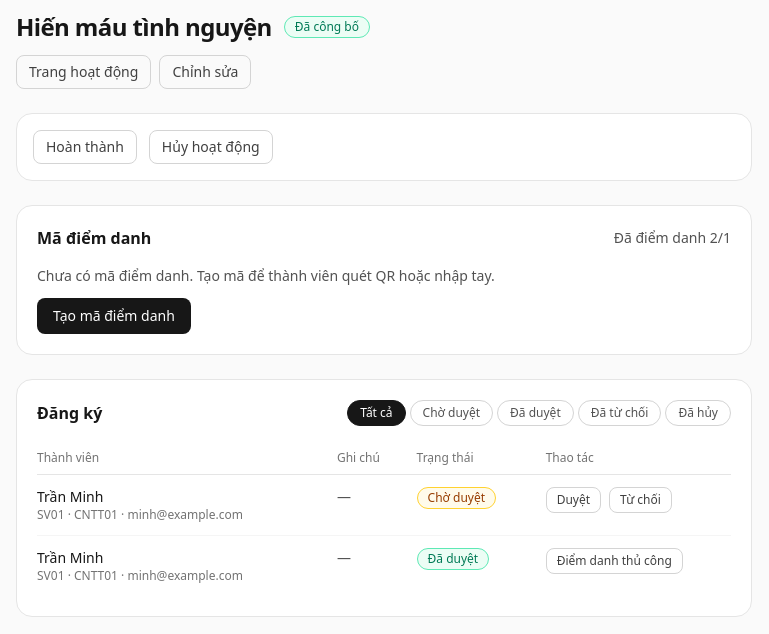
ManageView — lifecycle › published completes after the inline confirm and shows records
What coordinates should you click on to do the following:
click the button "Hoàn thành"
I would click on:
 (85, 147)
Its box is [33,130,137,164].
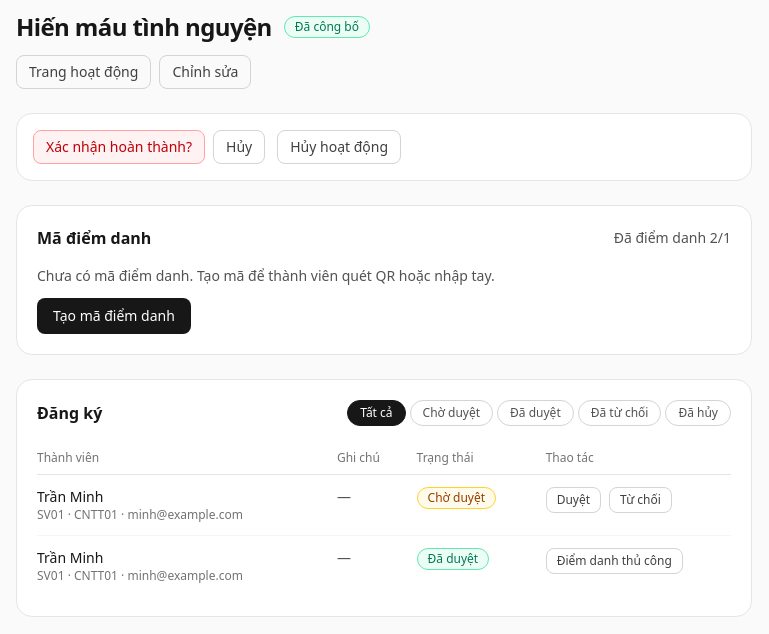
What coordinates should you click on to do the following:
click the button "Xác nhận hoàn thành?"
I would click on:
 (119, 147)
Its box is [33,130,205,164].
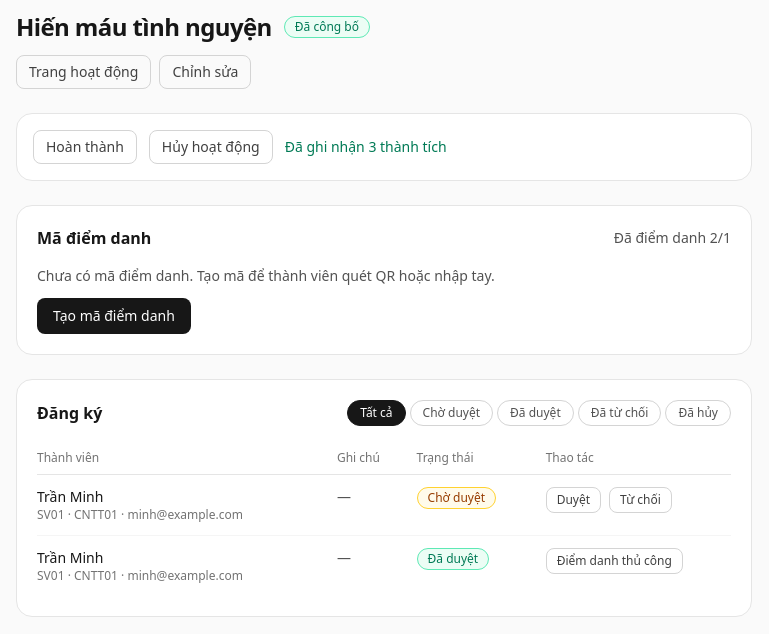
Expected: the text "Đã ghi nhận 3 thành tích" is shown, [285,137,447,157]
